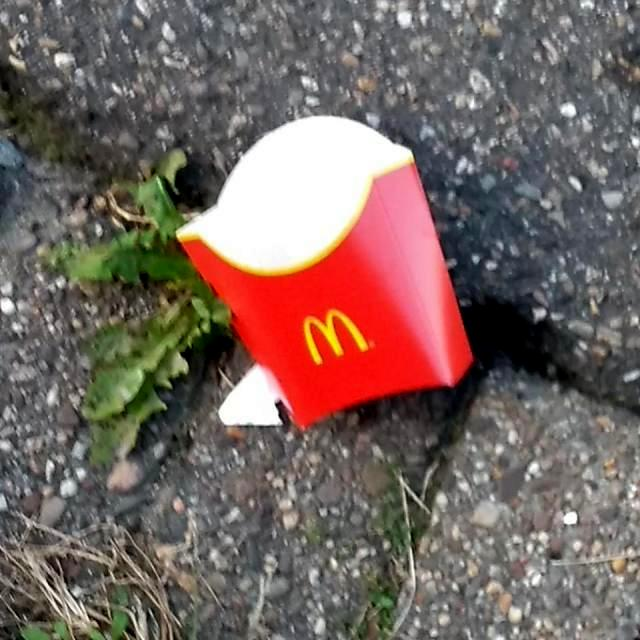Paper: (170, 110, 476, 432)
